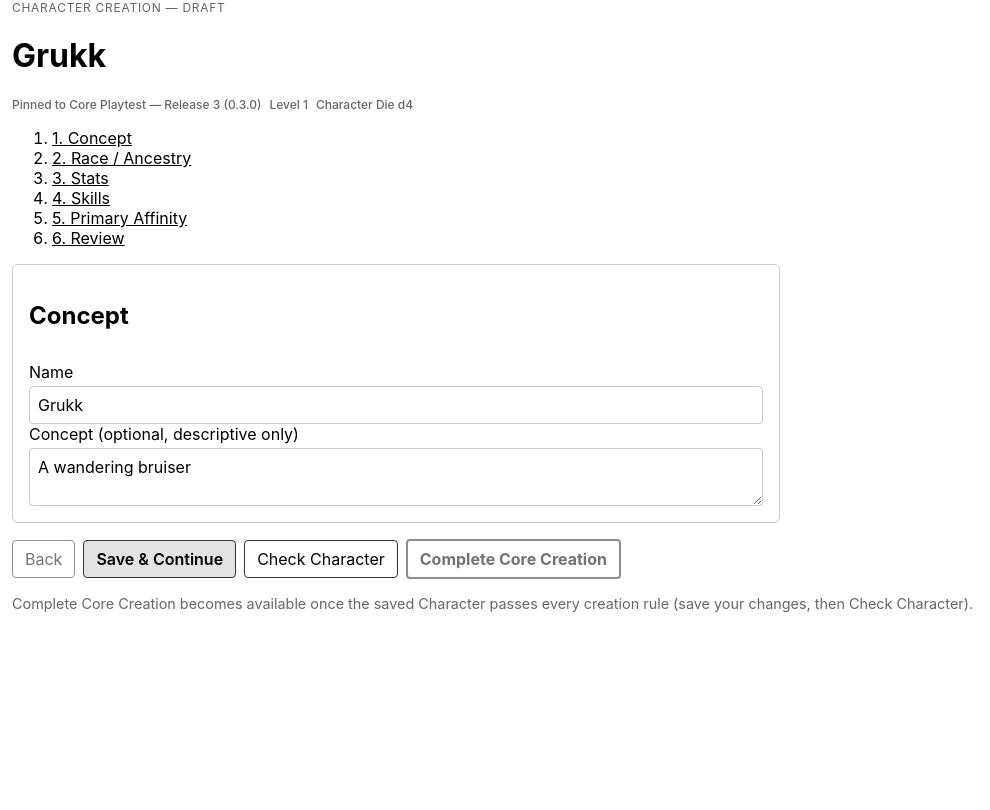
M6-WO3 creation wizard (§56–§69) › Save & Continue sends the expected lockVersion; a stale write offers a reload
Click the button "2. Race / Ancestry".
click(122, 158)  # box [52, 148, 191, 168]
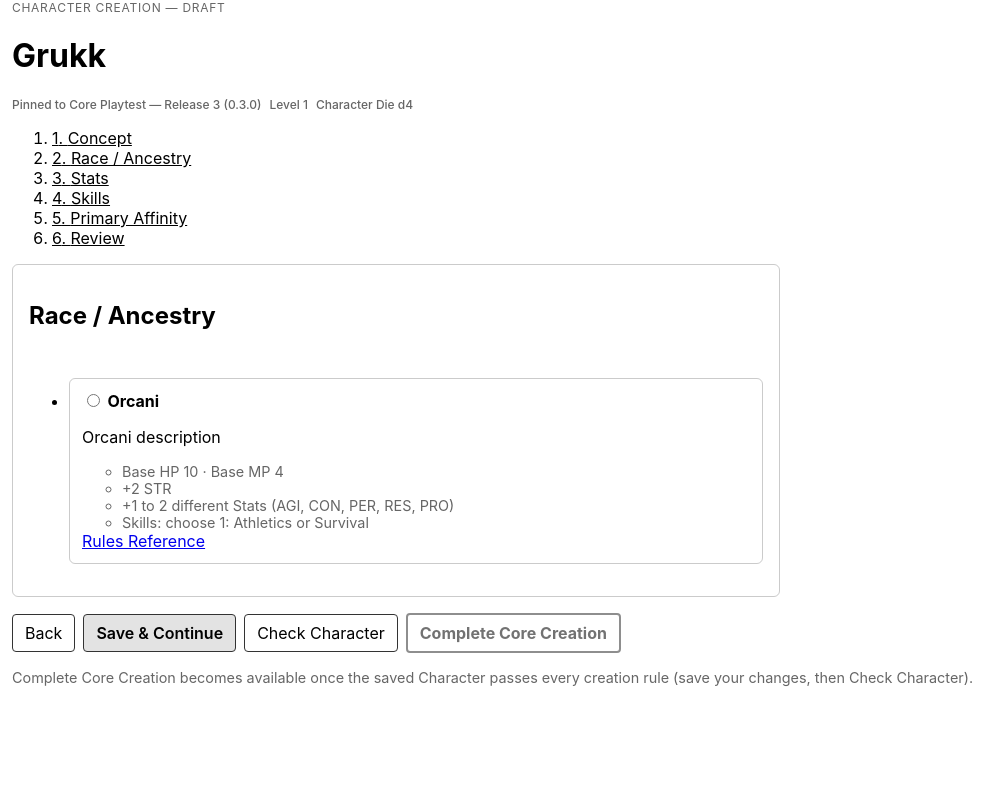
Click the radio button.
click(94, 400)  # box [87, 394, 100, 407]
(page scrolled)
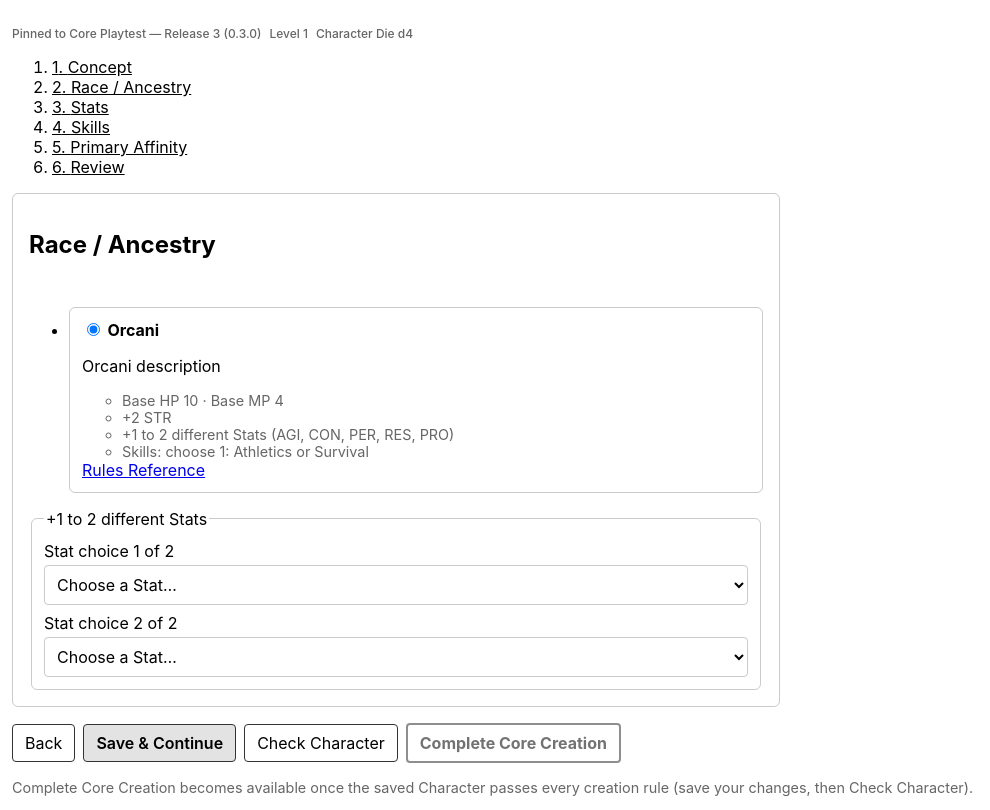
Click the button "Save & Continue".
click(160, 743)  # box [83, 724, 236, 762]
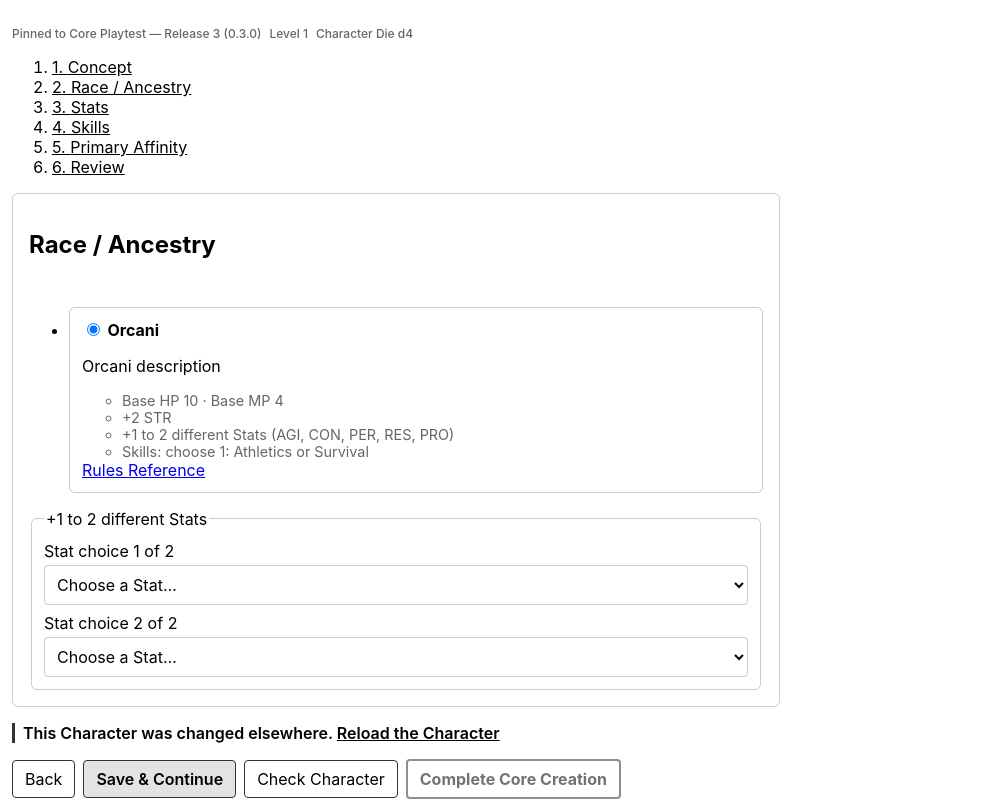
Expected: the button "Complete Core Creation" is disabled, [406, 759, 621, 799]
Now the message with test id "wizard-message" shows "This Character was changed elsewhere.", box [23, 723, 333, 743]
Now the button "Reload the Character" is shown, box [337, 723, 500, 743]
